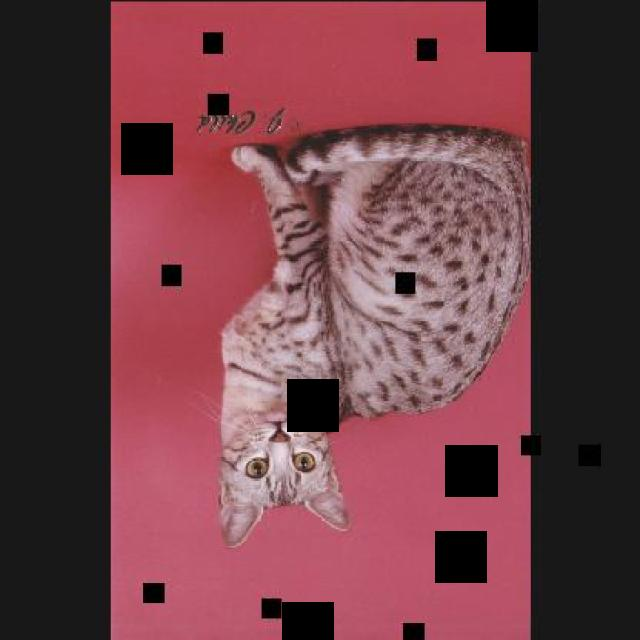unauthorized: (211, 122, 531, 548)
